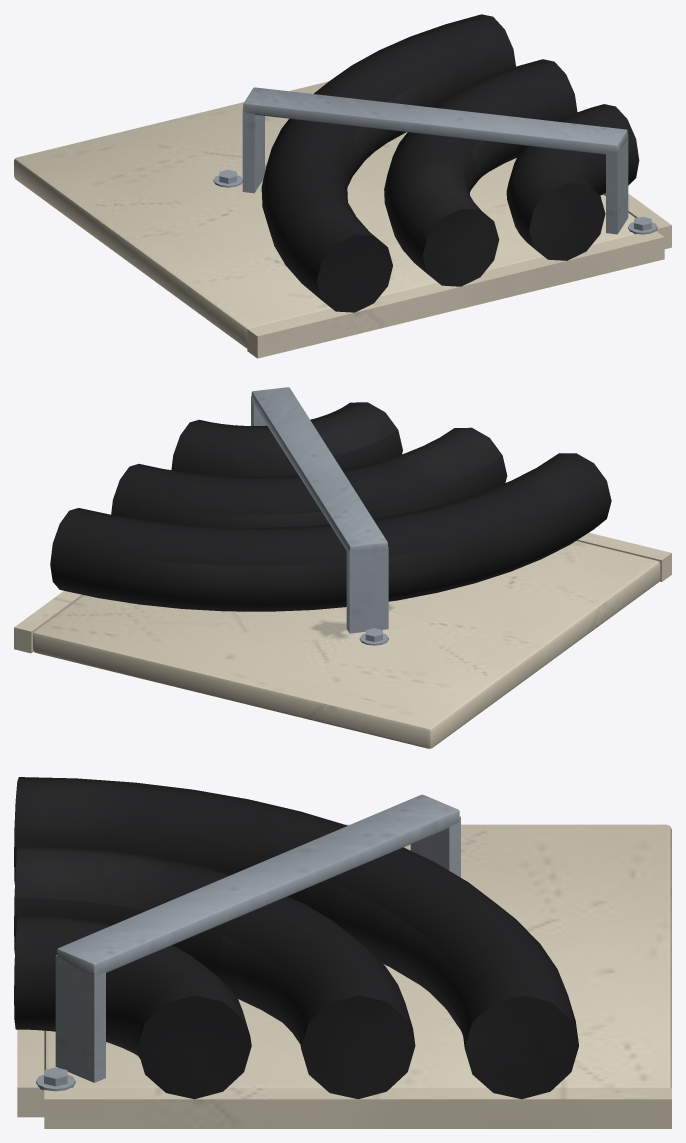
File: wires_bend.glb
The picture shows the model from 3 angles, top to bottom: view 1: azimuth 30°, elevation 25°; view 2: azimuth 150°, elevation 25°; view 3: azimuth 270°, elevation 25°; orthographic projection. The views are drawn at different scales.
Visible parts, largest first — view 1: Body.002; view 2: Body.002; view 3: Body.002.
Part boxes in pixels (x1=…): Body.002: x1=14, y1=14, x2=671, y2=358; Body.002: x1=14, y1=387, x2=671, y2=748; Body.002: x1=14, y1=777, x2=671, y2=1128.
Size of the model in its own units: 0.2412 by 0.06 by 0.2412.
Materials: 3 (3 with a texture image).
